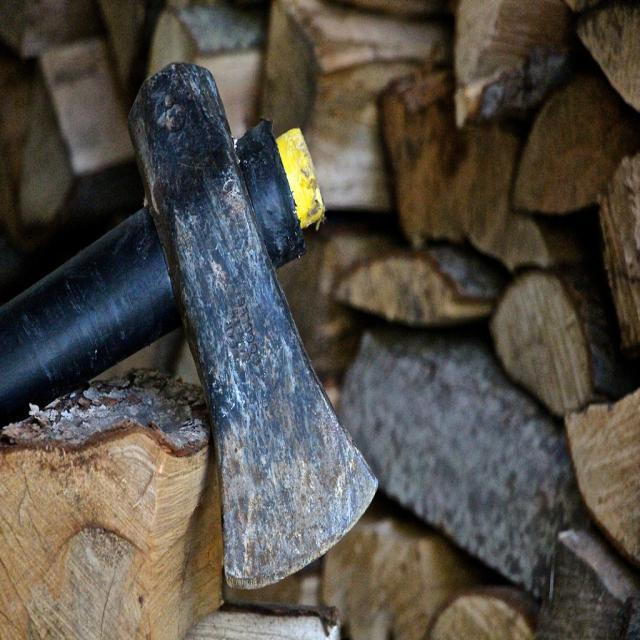Axe: (0, 64, 376, 588)
